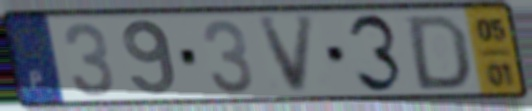3: (341, 11, 404, 95), (62, 19, 116, 98), (201, 17, 255, 95)
9: (120, 18, 180, 98)
D: (406, 12, 473, 93)
V: (254, 12, 319, 97)
